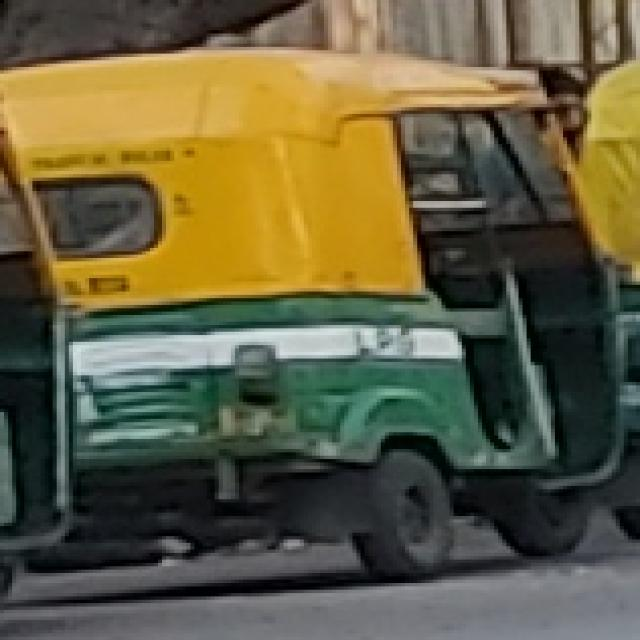autorickshaw: (4, 43, 632, 590)
